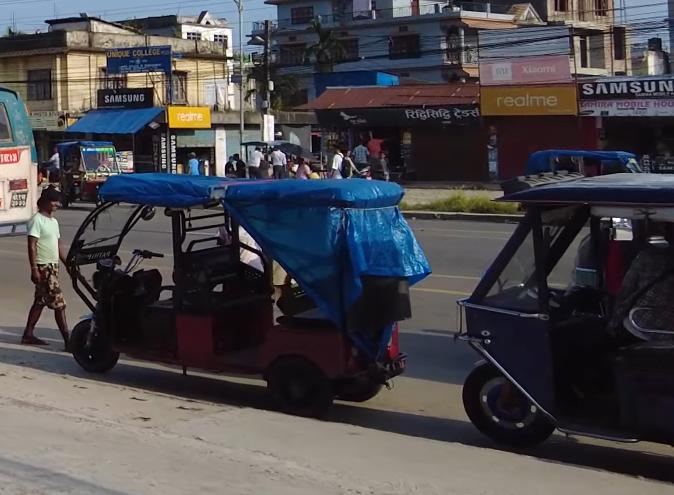bus: (0, 86, 43, 241)
e-rickshaw: (61, 166, 424, 419), (462, 168, 674, 471), (49, 135, 122, 209)
